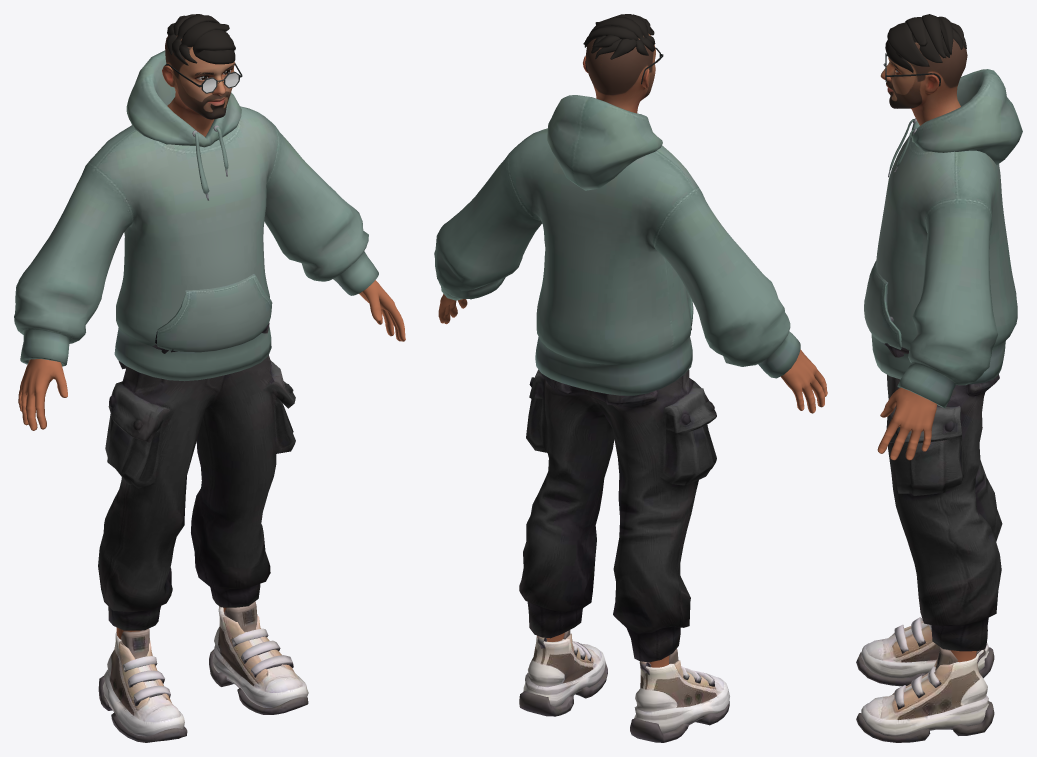
3 renders of one model, left to right at view 1: azimuth 30°, elevation 25°; view 2: azimuth 150°, elevation 25°; view 3: azimuth 270°, elevation 25°, orthographic.
Parts seen in each view (by area): view 1: Wolf3D_Outfit_Top, Wolf3D_Outfit_Bottom, Wolf3D_Outfit_Footwear, Wolf3D_Head, Wolf3D_Body, Wolf3D_Hair; view 2: Wolf3D_Outfit_Top, Wolf3D_Outfit_Bottom, Wolf3D_Outfit_Footwear, Wolf3D_Head, Wolf3D_Body, Wolf3D_Hair; view 3: Wolf3D_Outfit_Top, Wolf3D_Outfit_Bottom, Wolf3D_Outfit_Footwear, Wolf3D_Head, Wolf3D_Hair, Wolf3D_Body.
Boxes of the visible parts, x1,y1,x2,y2 form: Wolf3D_Outfit_Top: [14, 50, 378, 381]; Wolf3D_Outfit_Bottom: [98, 323, 295, 630]; Wolf3D_Outfit_Footwear: [98, 601, 308, 742]; Wolf3D_Head: [162, 35, 234, 136]; Wolf3D_Body: [18, 280, 405, 639]; Wolf3D_Hair: [166, 14, 235, 65]; Wolf3D_Outfit_Top: [434, 95, 800, 395]; Wolf3D_Outfit_Bottom: [519, 323, 716, 662]; Wolf3D_Outfit_Footwear: [519, 630, 729, 742]; Wolf3D_Head: [583, 33, 655, 113]; Wolf3D_Body: [438, 294, 827, 667]; Wolf3D_Hair: [583, 14, 655, 59]; Wolf3D_Outfit_Top: [864, 69, 1022, 408]; Wolf3D_Outfit_Bottom: [884, 316, 1002, 651]; Wolf3D_Outfit_Footwear: [856, 617, 994, 742]; Wolf3D_Head: [880, 39, 967, 125]; Wolf3D_Hair: [885, 14, 966, 73]; Wolf3D_Body: [877, 387, 976, 662].
Bounding box in the file's own units: 1.06 × 1.87 × 0.4117.
10 materials, 10 textured.
